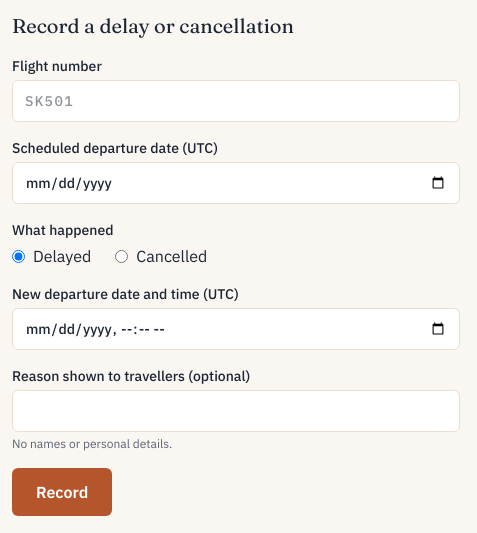
DisruptionForm › asks for the new time only when the flight is delayed
The image size is (477, 533).
Check: the field labelled "New departure date and time (UTC)" is shown, box [12, 308, 460, 350]
Click the radio button labelled "Cancelled" at [122, 256], box [115, 250, 128, 262]
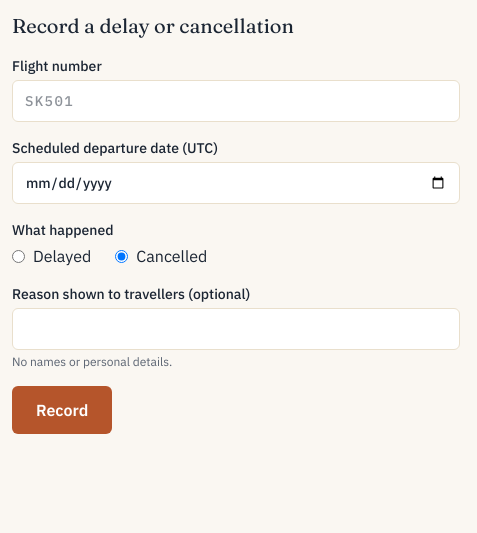
Check: the label labelled "New departure date and time" is gone
